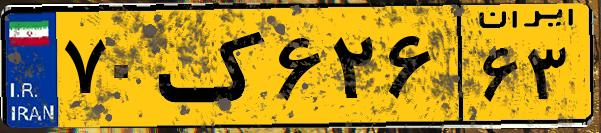0: (110, 28, 158, 98)
2: (330, 28, 385, 110)
3: (525, 38, 570, 115)
6: (270, 28, 330, 110), (385, 28, 445, 110), (475, 38, 525, 113)
7: (57, 26, 110, 100)
ک: (158, 12, 270, 120)
